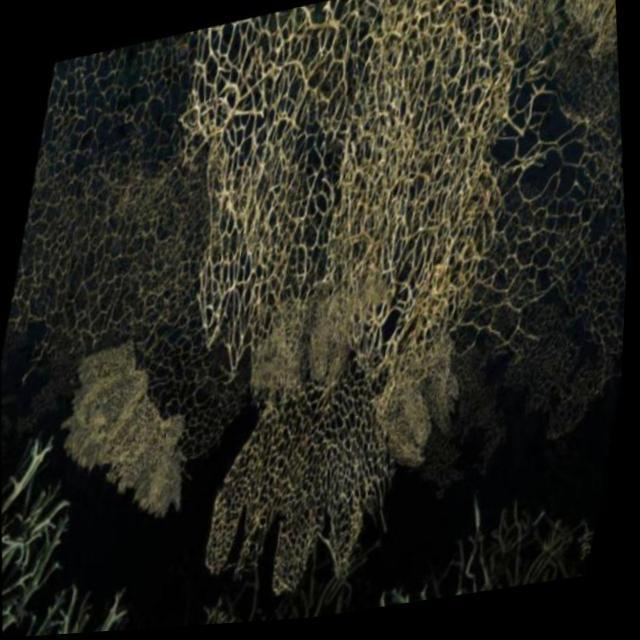Dead Coral: (86, 0, 613, 601)
